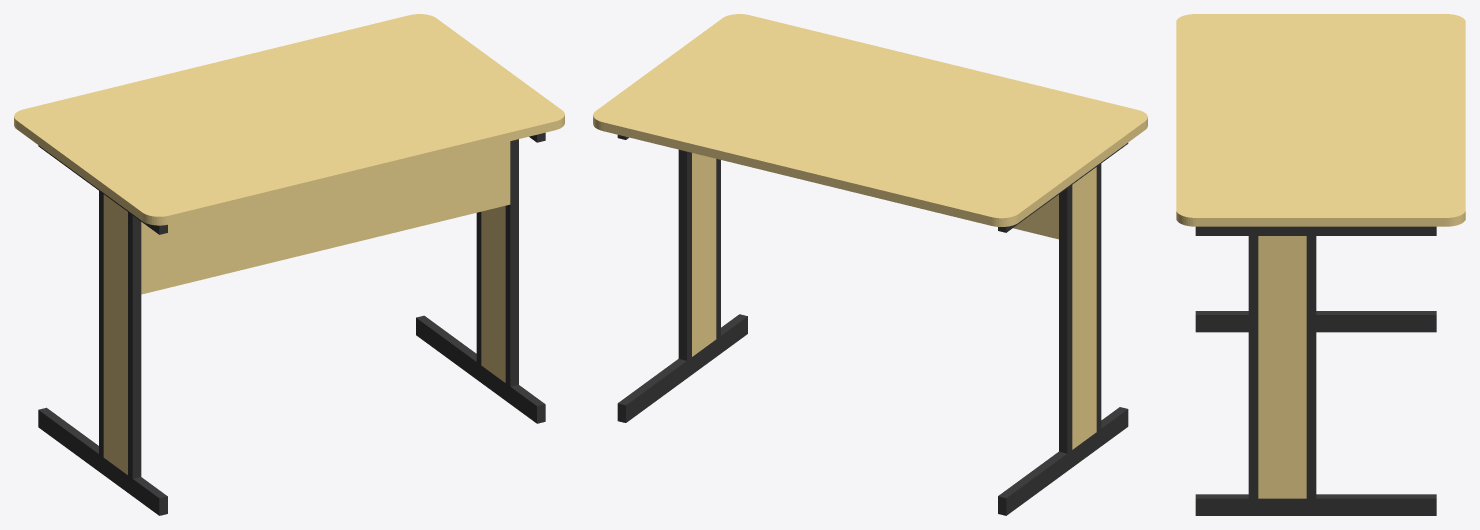
File: lar_table_pc.dae
3 views of the same model, side by side, from view 1: azimuth 30°, elevation 25°; view 2: azimuth 150°, elevation 25°; view 3: azimuth 270°, elevation 25° (orthographic).
Parts seen in each view (by area): view 1: Component_3 (×2), Component_4, Component_5; view 2: Component_3 (×2), Component_4, Component_5; view 3: Component_3 (×2), Component_5, Component_4.
Boxes of the visible parts, x1,y1,x2,y2 form: Component_3 (×2): [14, 14, 564, 474]; Component_4: [38, 145, 167, 515]; Component_5: [416, 132, 545, 423]; Component_3 (×2): [593, 14, 1147, 449]; Component_4: [998, 143, 1128, 515]; Component_5: [617, 135, 747, 422]; Component_3 (×2): [1176, 14, 1465, 498]; Component_5: [1195, 226, 1436, 515]; Component_4: [1195, 311, 1436, 332].
Bounding box in the file's own units: 39.37 × 23.62 × 27.56.
